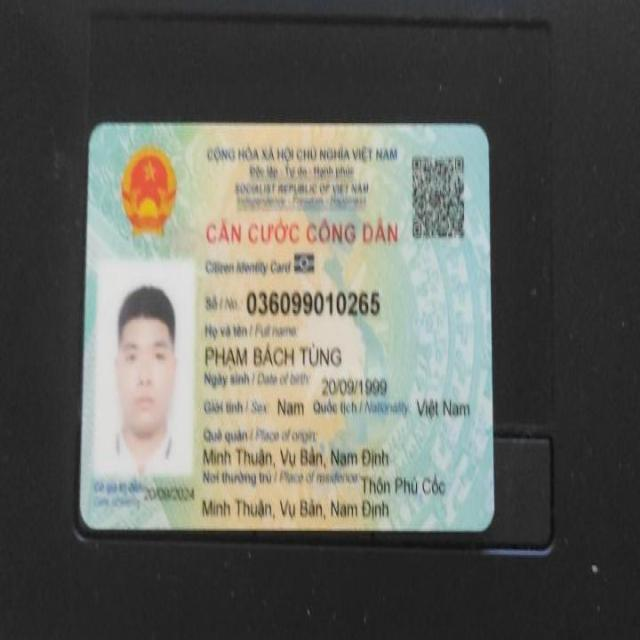bottom_left: (70, 503, 105, 537)
bottom_right: (458, 502, 502, 540)
image_person: (88, 258, 200, 481)
top_left: (78, 116, 120, 150)
top_right: (458, 108, 501, 152)
